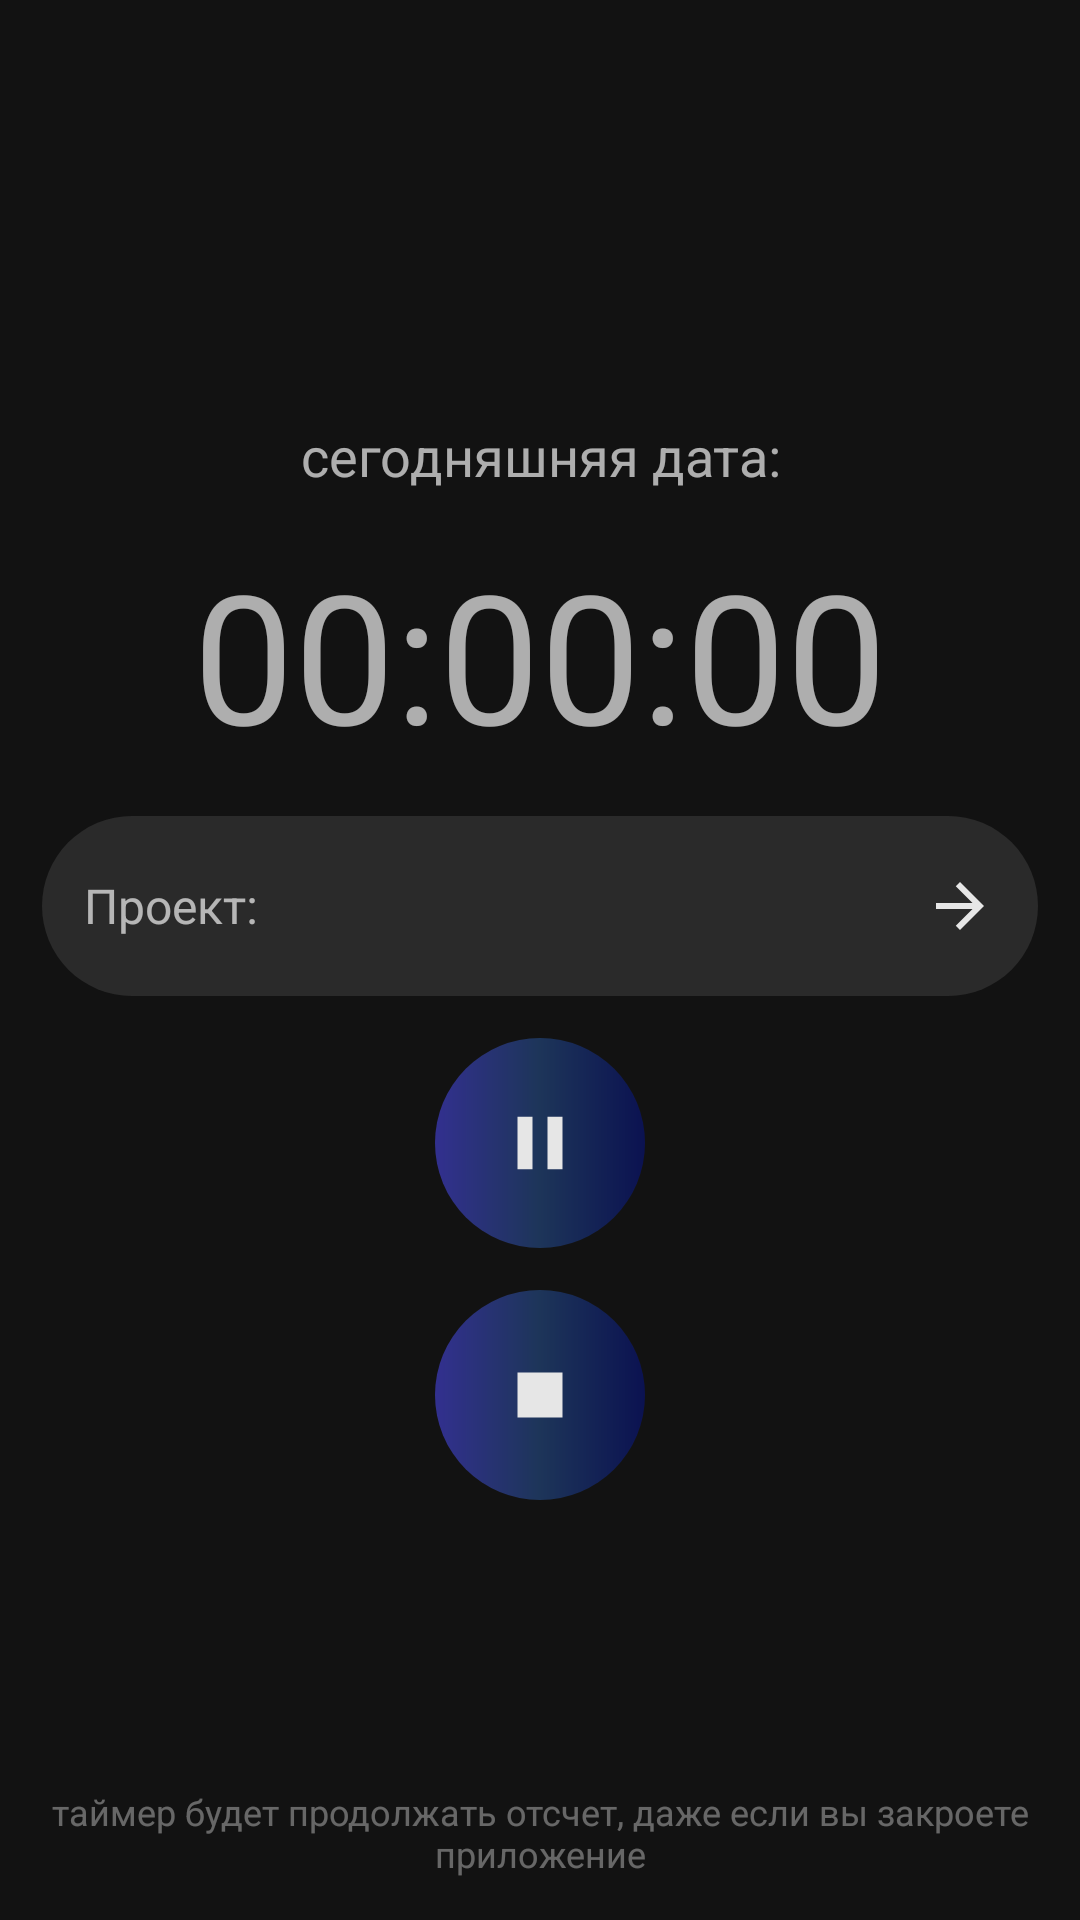

Point at icon controls on the screen. Image size 1080px x 1920px, points as (x=x, y=y).
pause: (x=540, y=1143)
stop: (x=540, y=1395)
